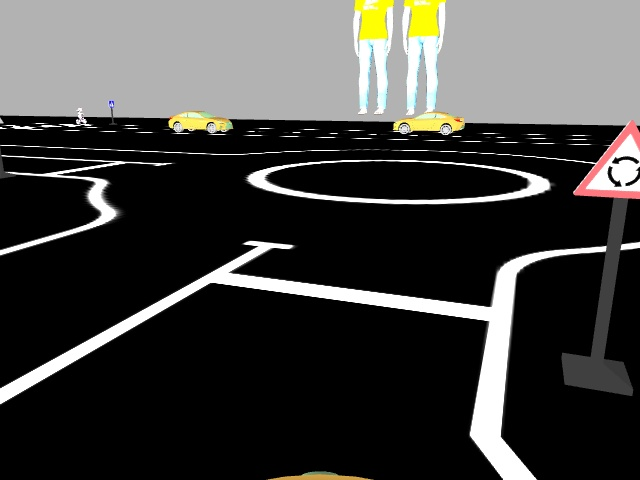Roundabout: (571, 119, 639, 200)
